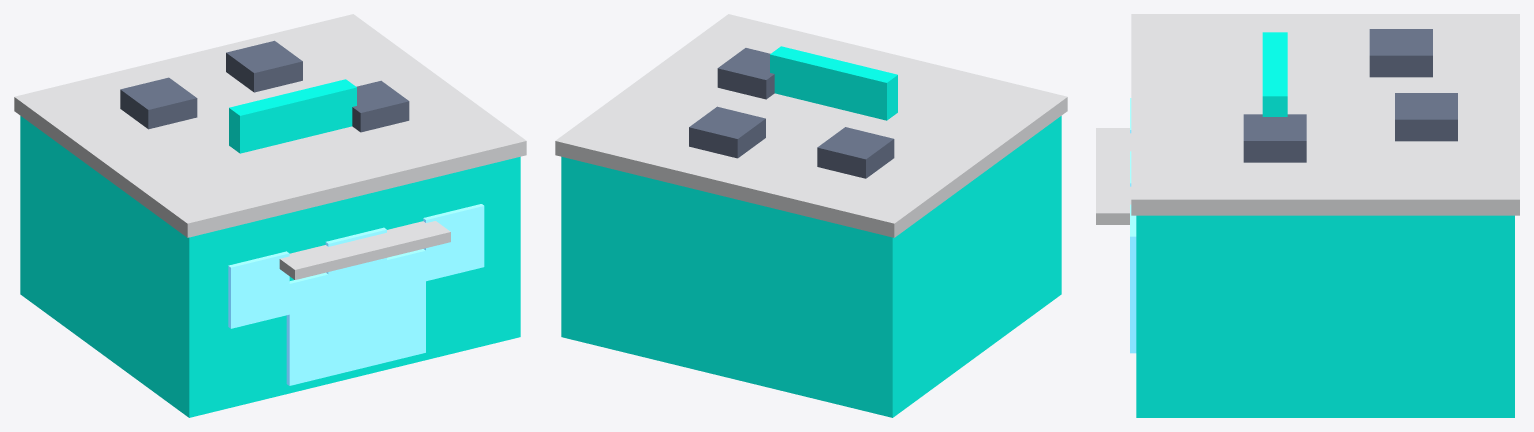
Rendered from mall.glb.
3 renders of one model, left to right at view 1: azimuth 30°, elevation 25°; view 2: azimuth 150°, elevation 25°; view 3: azimuth 270°, elevation 25°, orthographic. The views are drawn at different scales.
Parts seen in each view (by area): view 1: mall; view 2: mall; view 3: mall.
Part boxes in pixels (x1,y1,x2,y2): mall: (14, 14, 526, 417); mall: (555, 14, 1067, 417); mall: (1096, 14, 1519, 417).
Bounding box in the file's own units: 1.74 × 1.15 × 1.68.
